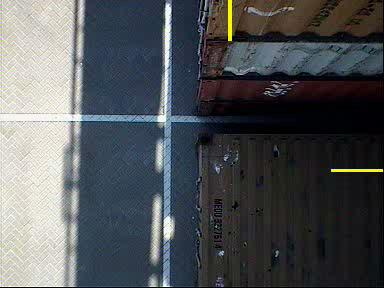groundmarker_2: (121, 134, 221, 184)
